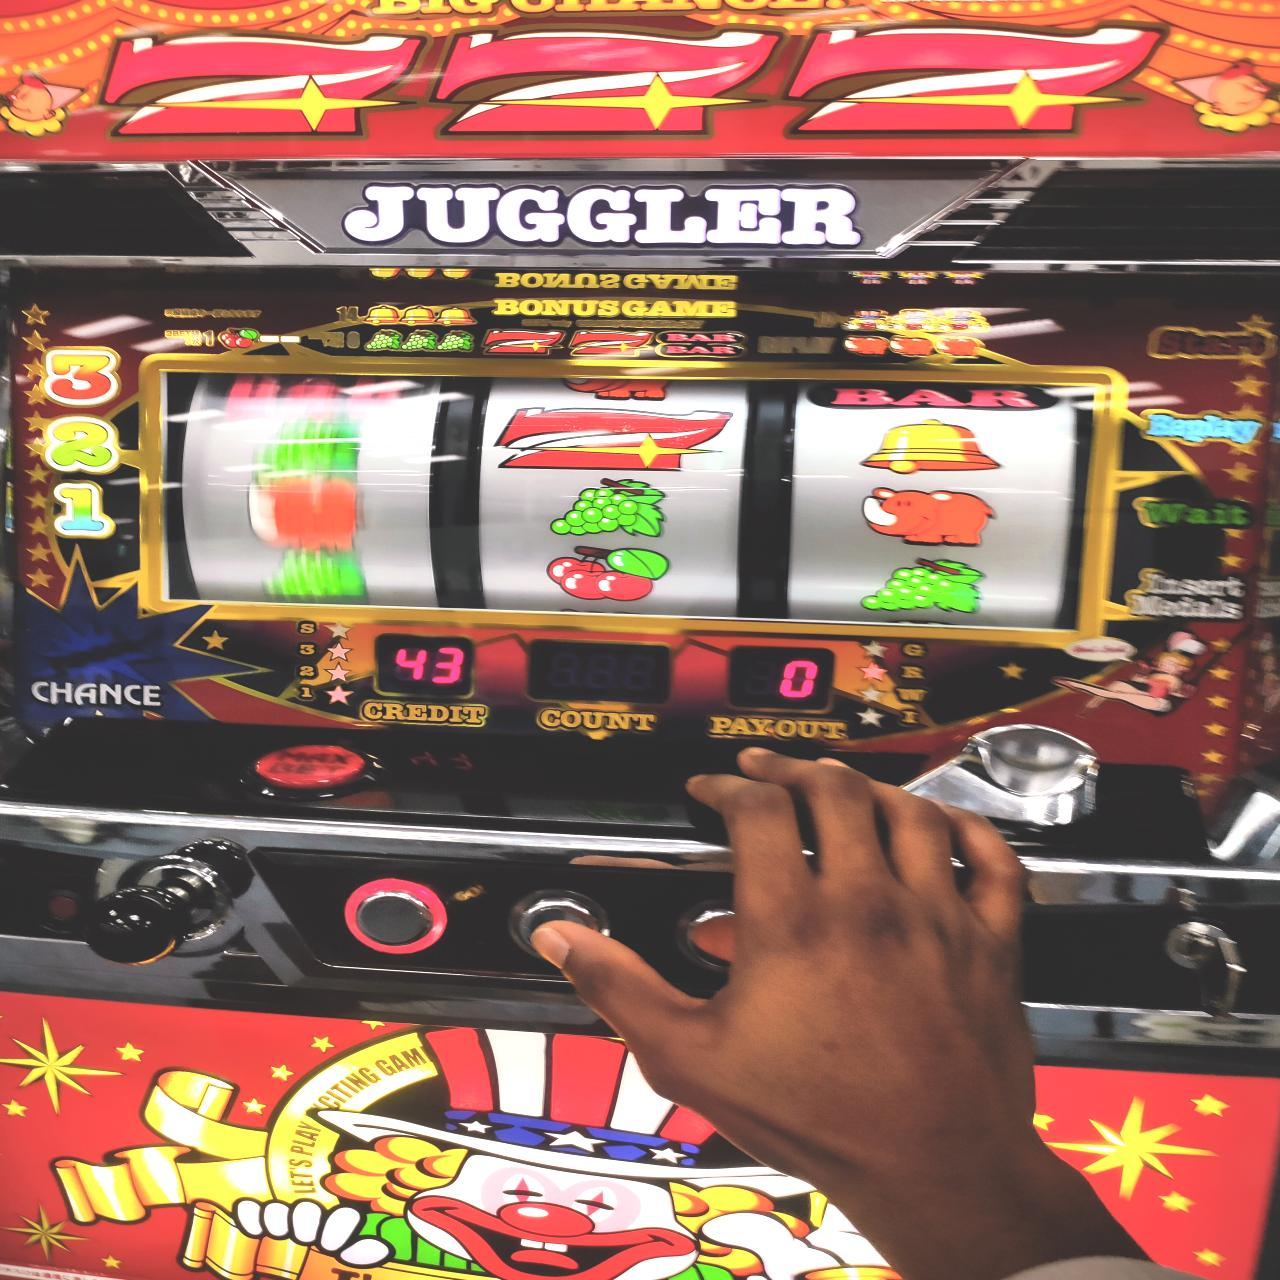7: (499, 403, 728, 475)
8: (864, 485, 996, 550)
bell: (862, 416, 1001, 477)
cherry: (545, 545, 670, 602)
grape: (862, 557, 987, 614), (552, 478, 665, 536)
rhino: (162, 365, 1094, 645)
